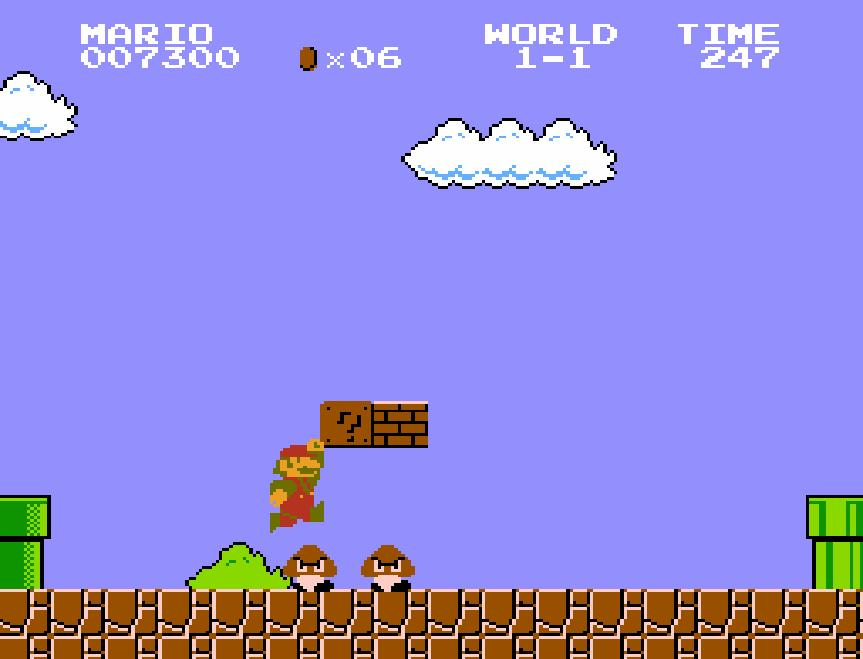big_mario: (267, 437, 325, 535)
